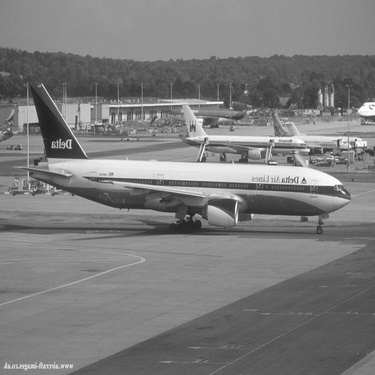airplane: (19, 58, 362, 246), (163, 96, 319, 162), (265, 108, 370, 156), (254, 110, 357, 152), (151, 92, 258, 132), (350, 91, 372, 122)
